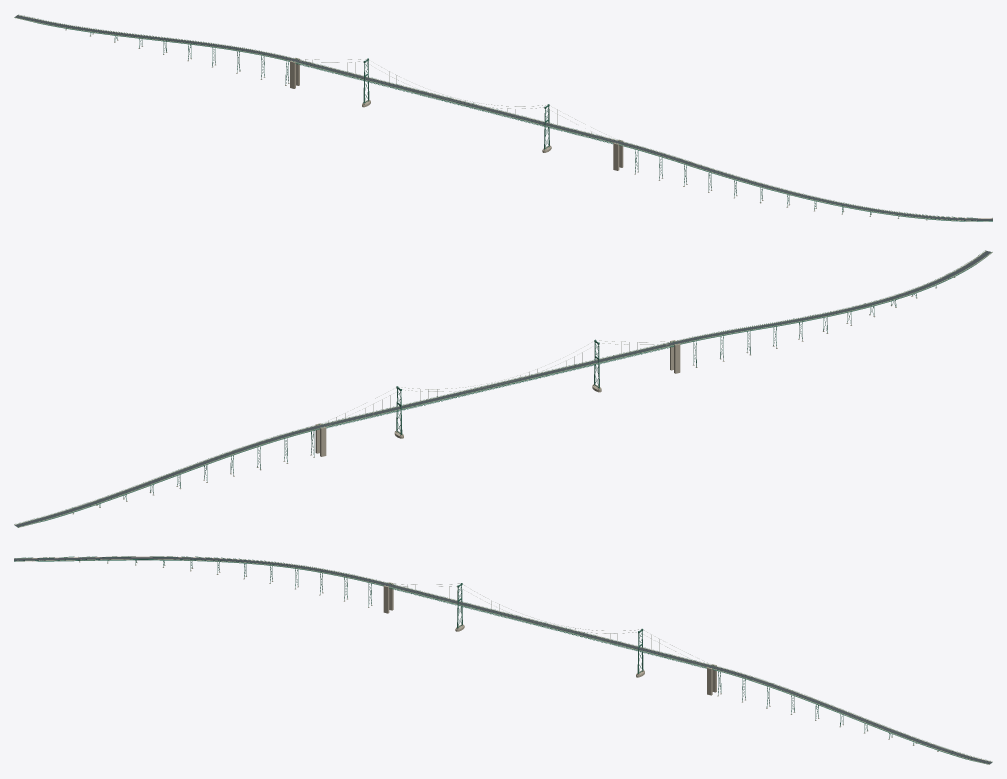
Rendered from lions-gate-bridge-far.glb.
The picture shows the model from 3 angles, top to bottom: view 1: azimuth 90°, elevation 25°; view 2: azimuth 150°, elevation 25°; view 3: azimuth 270°, elevation 25°; orthographic projection. The views are drawn at different scales.
Parts seen in each view (by area): view 1: lions-gate-bridge-0-steel, lions-gate-bridge-0-concrete, lions-gate-bridge-0-asphalt; view 2: lions-gate-bridge-0-steel, lions-gate-bridge-0-concrete, lions-gate-bridge-0-asphalt; view 3: lions-gate-bridge-0-steel, lions-gate-bridge-0-concrete, lions-gate-bridge-0-asphalt.
Boxes of the visible parts, x1,y1,x2,y2 form: lions-gate-bridge-0-steel: (14, 14, 992, 221); lions-gate-bridge-0-concrete: (14, 15, 992, 221); lions-gate-bridge-0-asphalt: (15, 15, 992, 220); lions-gate-bridge-0-steel: (14, 250, 991, 527); lions-gate-bridge-0-concrete: (14, 250, 992, 527); lions-gate-bridge-0-asphalt: (15, 251, 990, 526); lions-gate-bridge-0-steel: (14, 556, 992, 764); lions-gate-bridge-0-concrete: (14, 556, 992, 764); lions-gate-bridge-0-asphalt: (14, 557, 991, 763).
Bounding box in the file's own units: 1099 × 111 × 2200.
